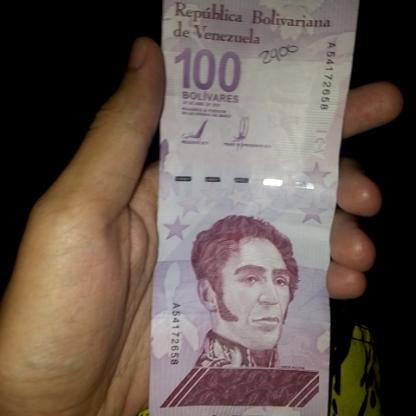one_hundred-front-vef: (146, 14, 350, 416)
